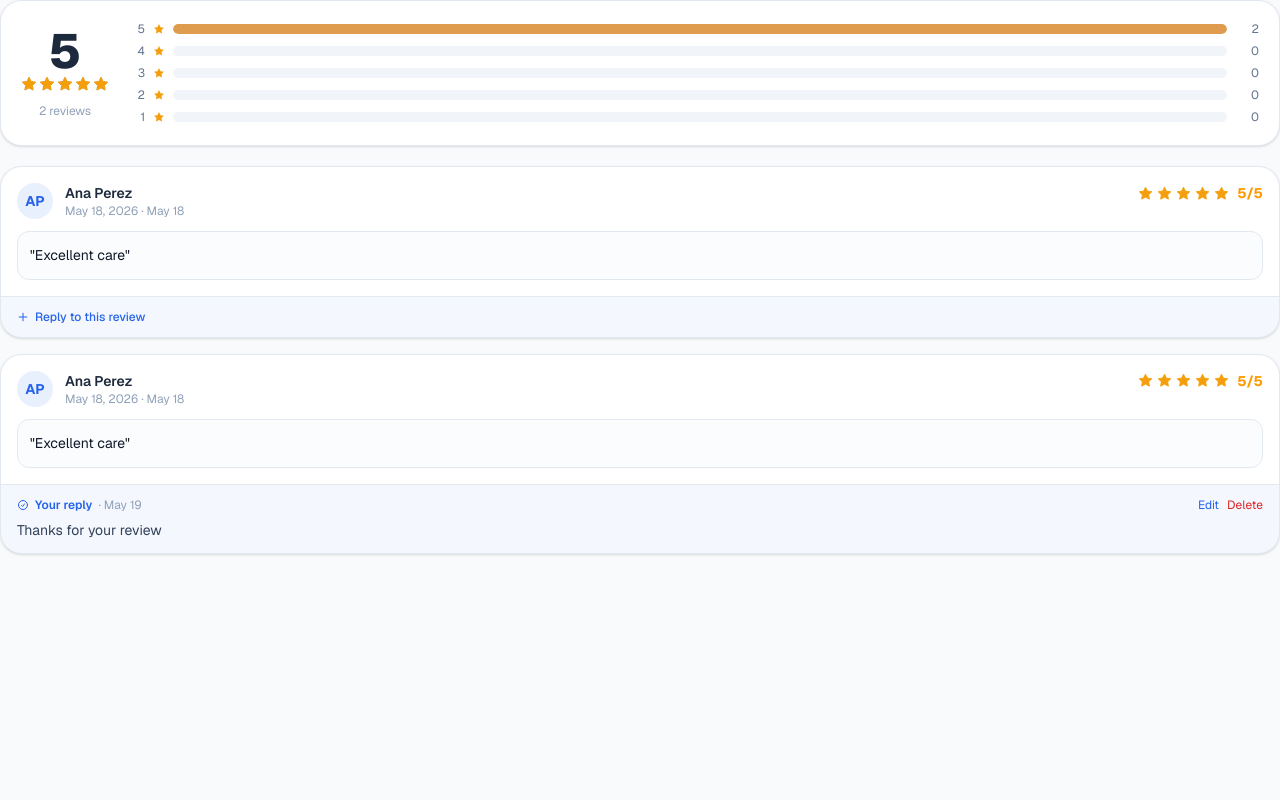
Test: ResenasView i18n › uses translated validation and success notices for publishing replies
This screenshot has width=1280, height=800.
Click the button "Reply to this review".
click(81, 317)  # box top-left (17, 309), bottom-right (145, 325)
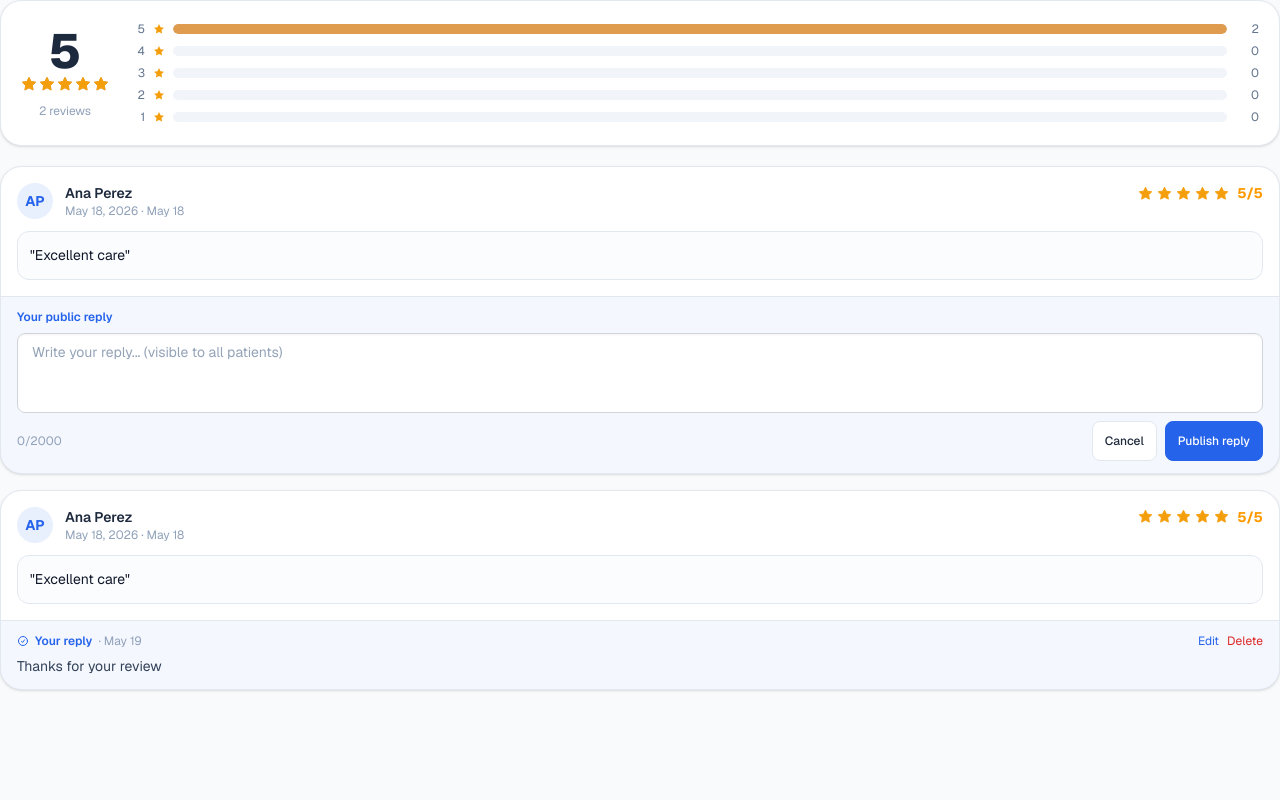
Type "hey" into the text box with placeholder "Write your reply... (visible to all patients)".
click(640, 373); type("hey")  # box top-left (17, 333), bottom-right (1263, 413)
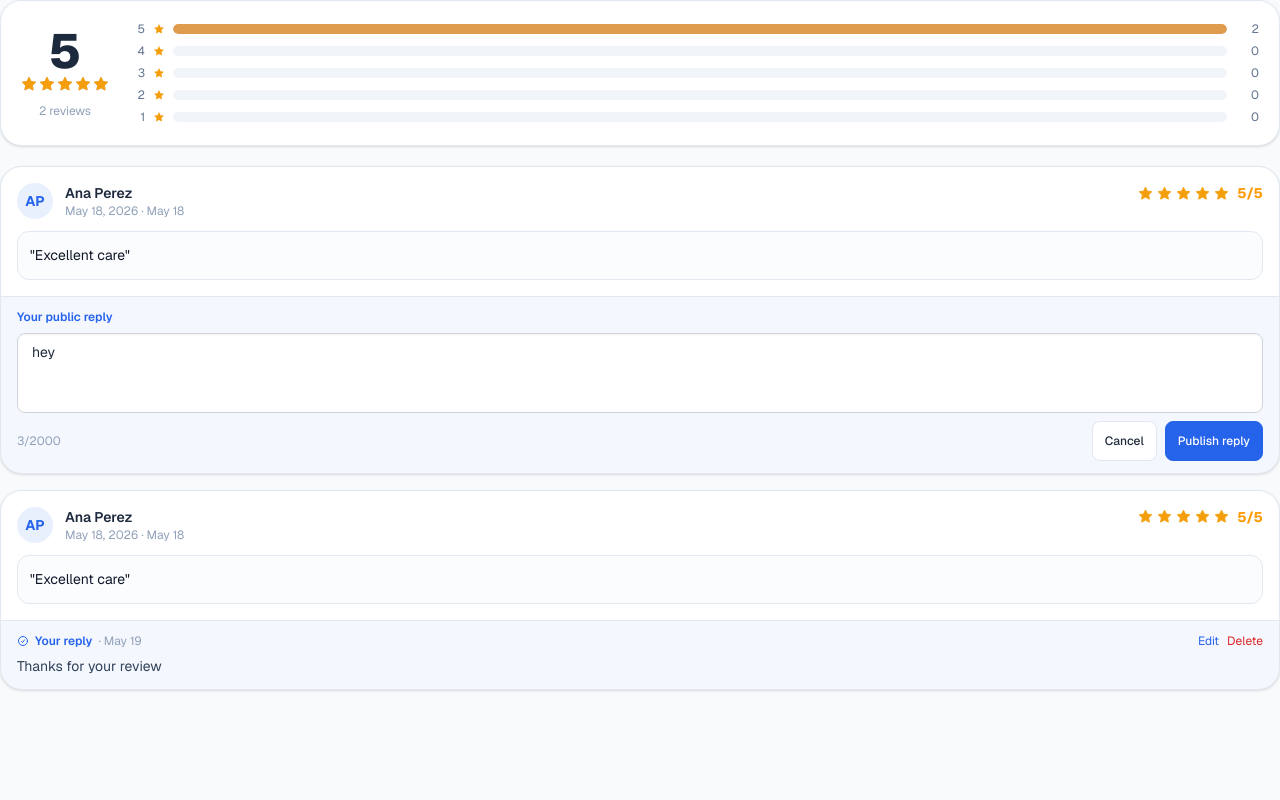
Click the button "Publish reply".
click(1214, 441)  # box top-left (1165, 421), bottom-right (1263, 461)
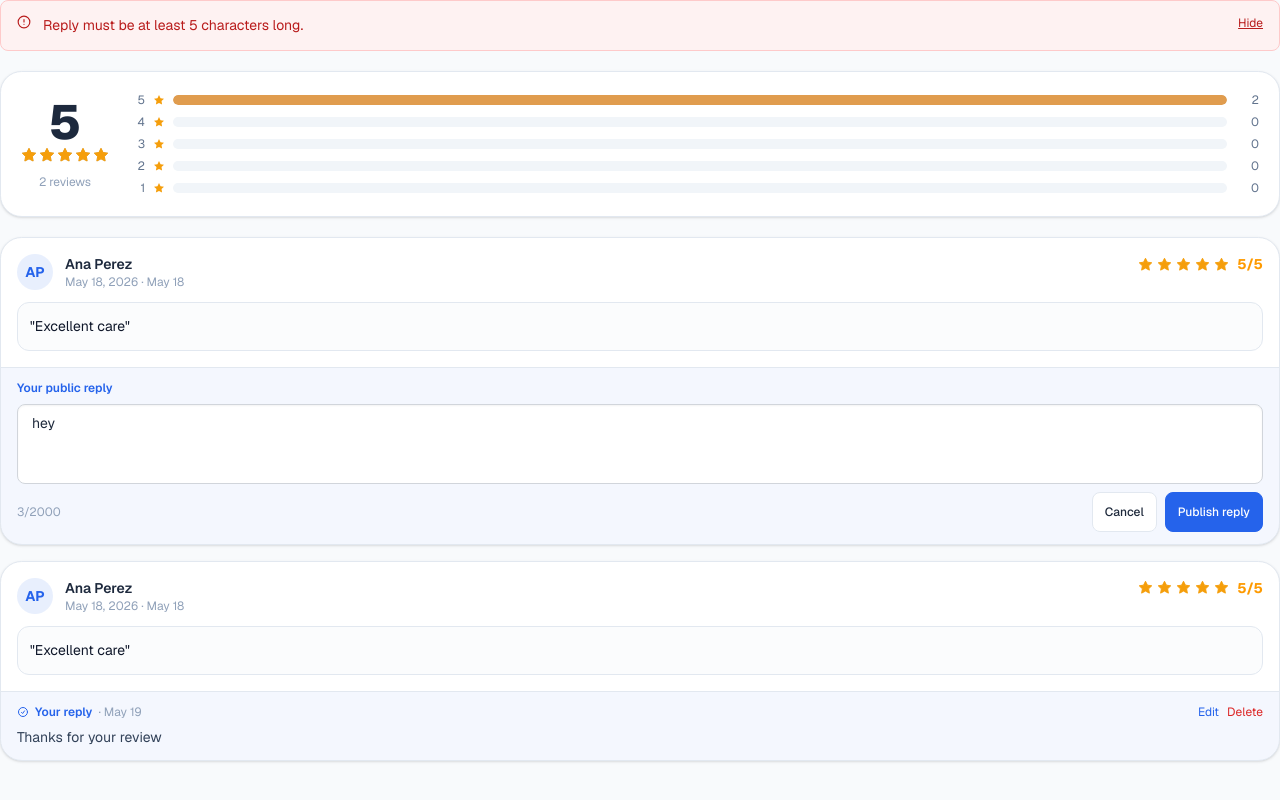
Result: the text "Reply must be at least 5 characters long." is shown at top-left (43, 15), bottom-right (303, 36)
Replace the text in the text box with placeholder "Write your reply... (visible to all patients)" with "Thanks for sharing your experience" at (640, 444), box top-left (17, 404), bottom-right (1263, 484)
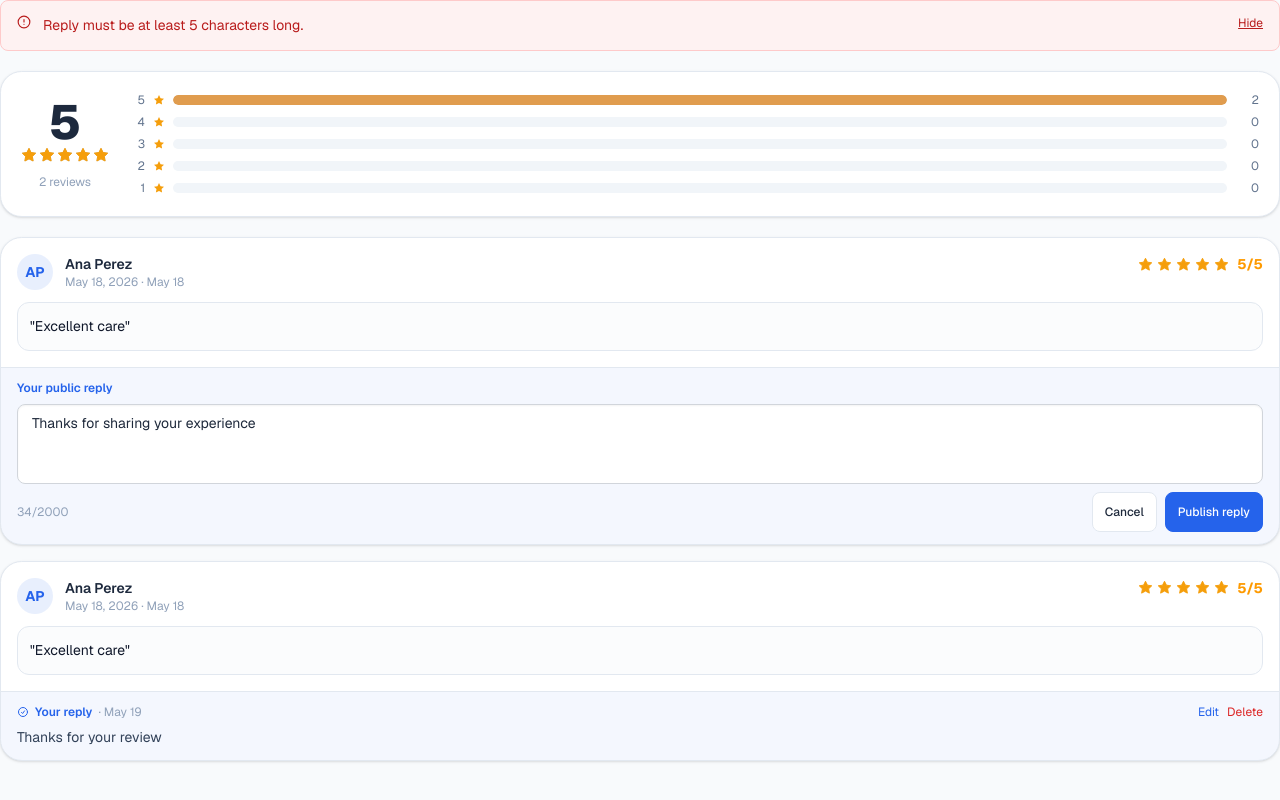
Click the button "Publish reply".
click(1214, 512)  # box top-left (1165, 492), bottom-right (1263, 532)
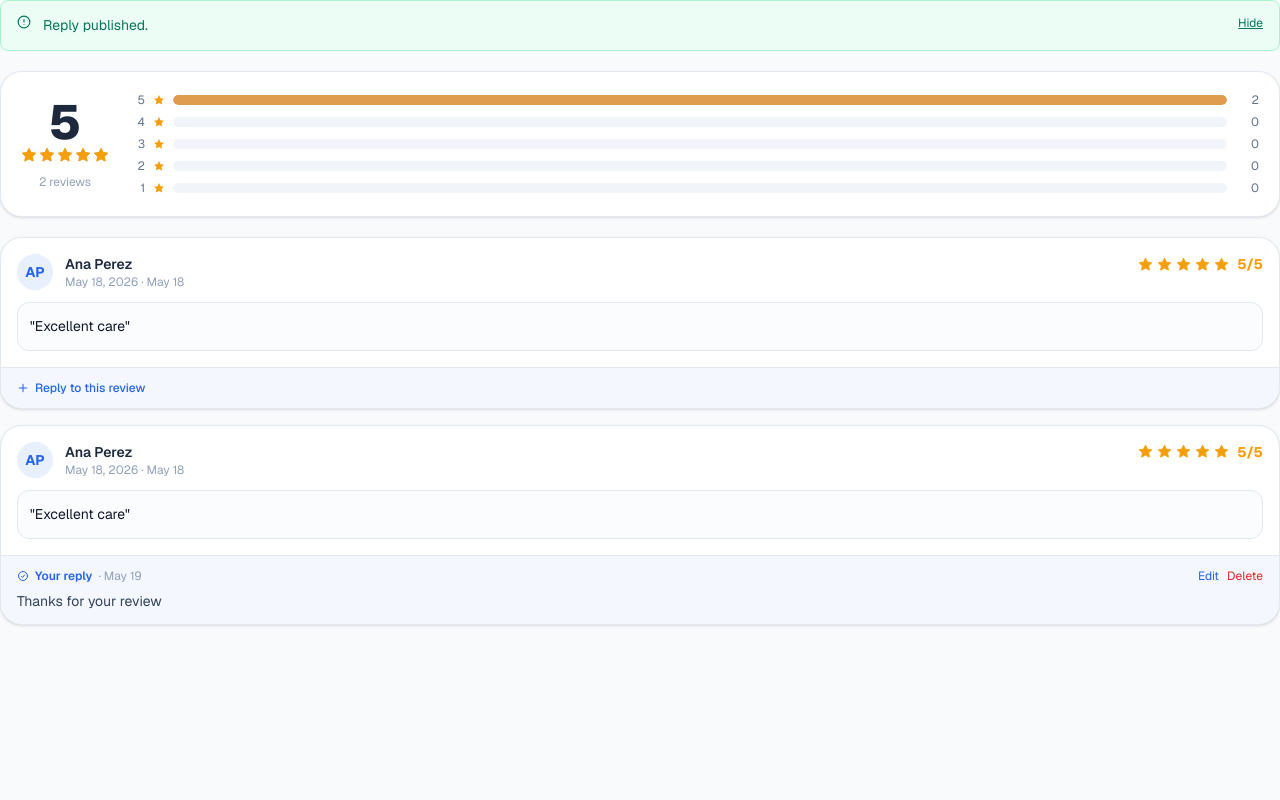
Result: the text "Reply published." is shown at top-left (43, 15), bottom-right (148, 36)
